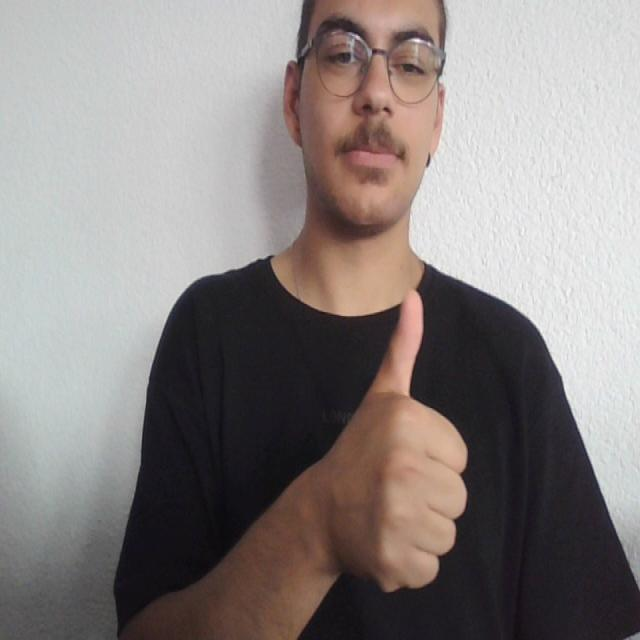Tamam: (303, 280, 476, 600)
